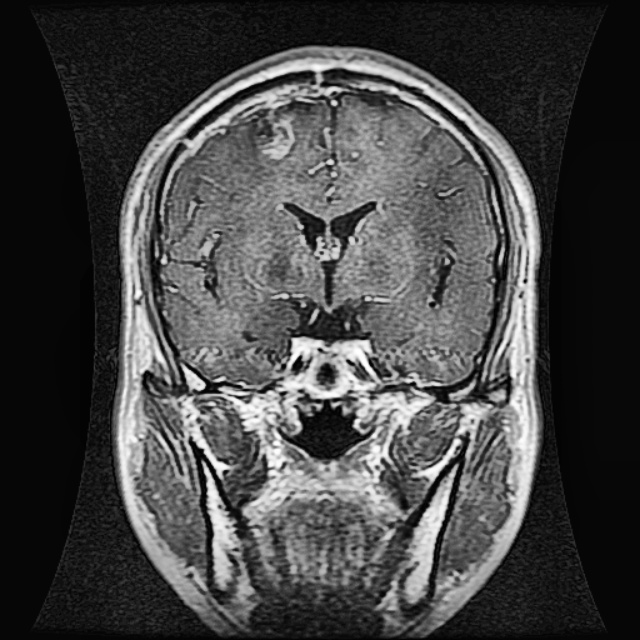Meningioma: (247, 100, 299, 165)
